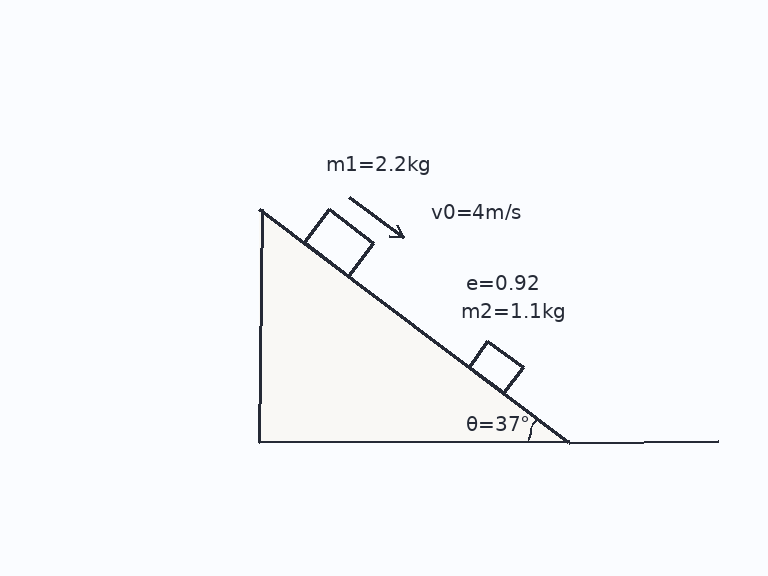block: (302, 208, 375, 278), (467, 339, 525, 395)
ramp: (258, 207, 571, 444)
